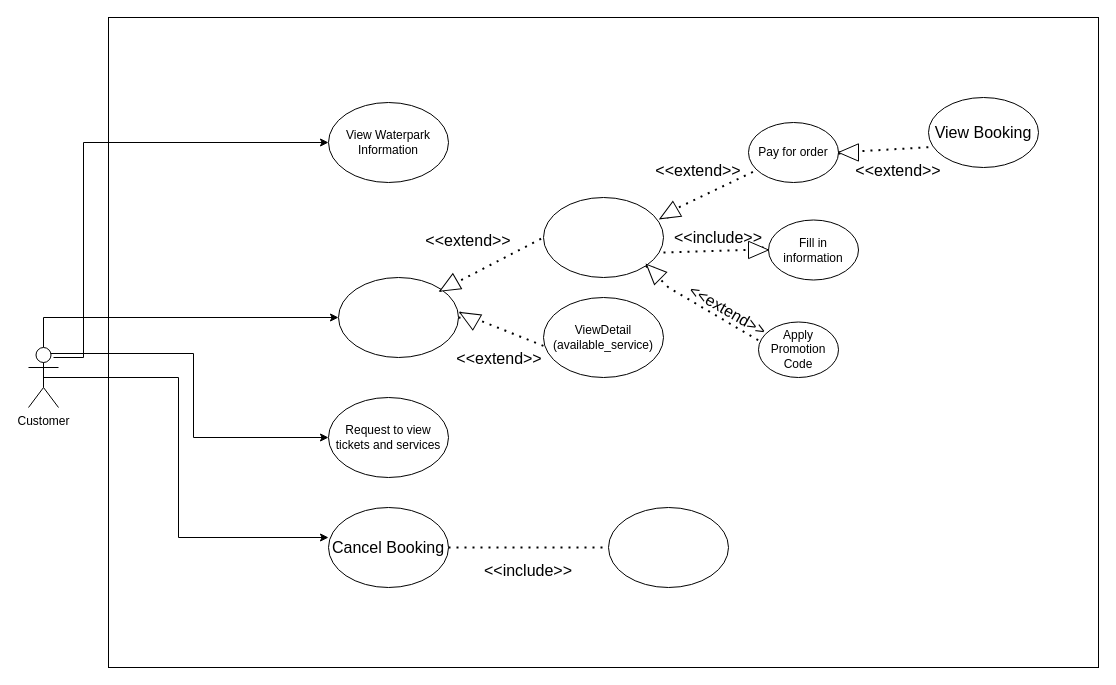
Image size: 1116x685. Some labels were removed from this diagram. The shapes that lost their labels are listed below. From the top down, each one's box as (x1, y1, x2, y2) in pixels, then its label:
(542, 196, 664, 278): Select ticket and all services
(338, 276, 458, 358): choose date
(608, 506, 728, 588): Return Payment
